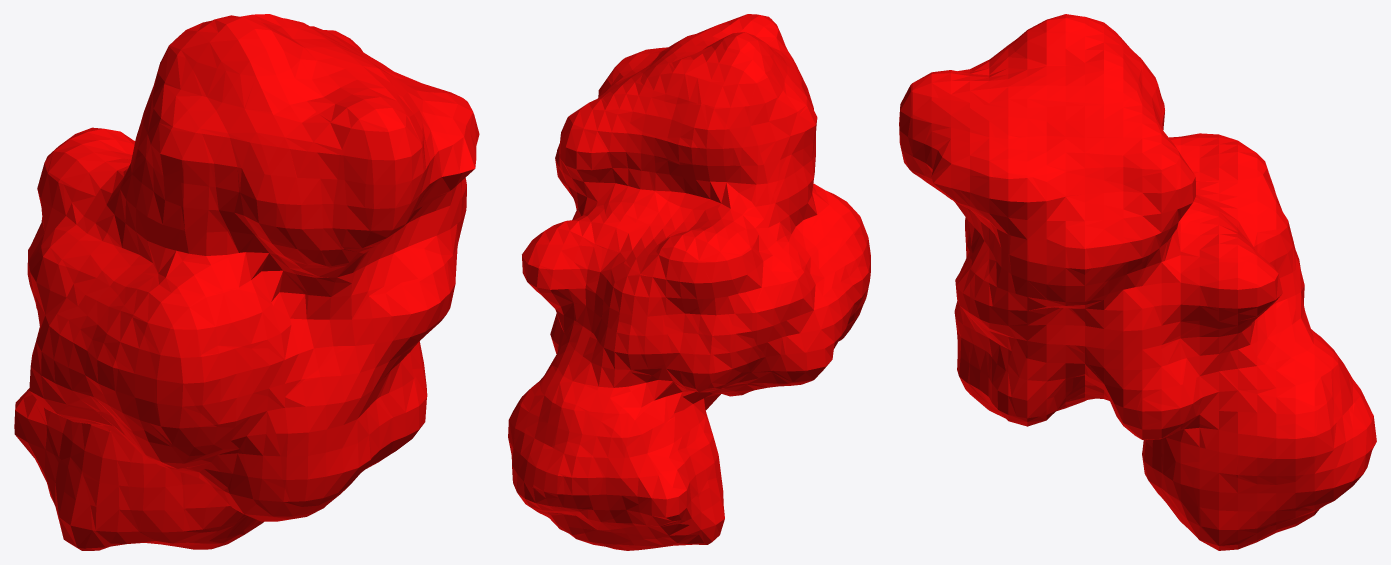
The model's file is pykA_coarse.dae.
3 renders of one model, left to right at view 1: azimuth 30°, elevation 25°; view 2: azimuth 150°, elevation 25°; view 3: azimuth 270°, elevation 25°, orthographic. The views are drawn at different scales.
Parts seen in each view (by area): view 1: pykA; view 2: pykA; view 3: pykA.
Boxes of the visible parts, box(x1,y1,x2,y2) form: pykA: box(14, 14, 479, 550); pykA: box(508, 14, 870, 550); pykA: box(899, 14, 1376, 550).
Bounding box in the file's own units: 52.95 × 79.17 × 69.24.
